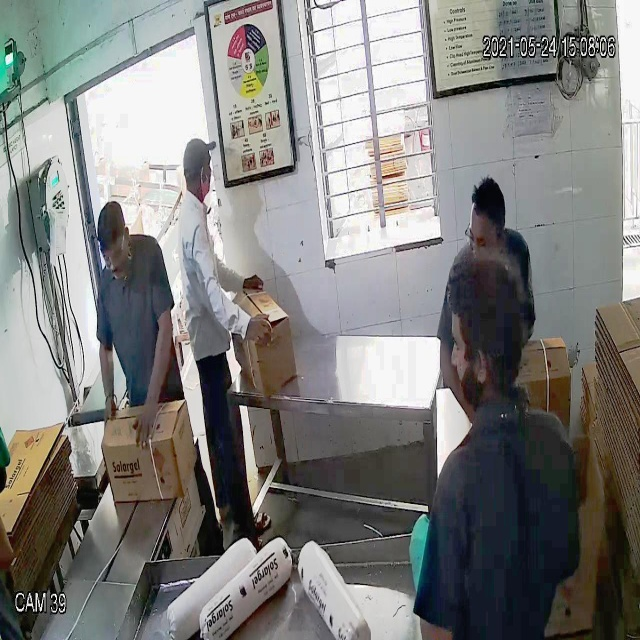Gafas: (97, 235, 129, 268)
